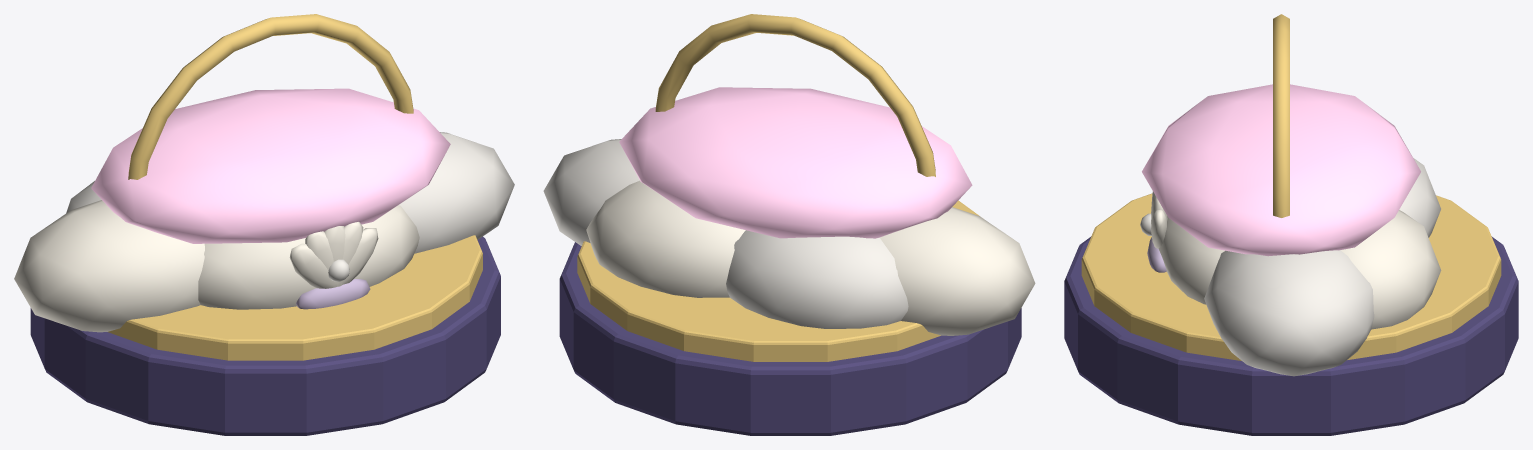
File: pearl_cloud_pouf.glb
3 views of the same model, side by side, from view 1: azimuth 30°, elevation 25°; view 2: azimuth 150°, elevation 25°; view 3: azimuth 270°, elevation 25° (orthographic). The views are drawn at different scales.
Parts seen in each view (by area): view 1: pearl_cloud_pouf.001; view 2: pearl_cloud_pouf.001; view 3: pearl_cloud_pouf.001.
Part boxes in pixels (x1,y1,x2,y2): pearl_cloud_pouf.001: [14, 14, 514, 435]; pearl_cloud_pouf.001: [543, 14, 1035, 435]; pearl_cloud_pouf.001: [1064, 14, 1518, 435].
Size of the model in its own units: 4.22 by 2.79 by 3.64.
